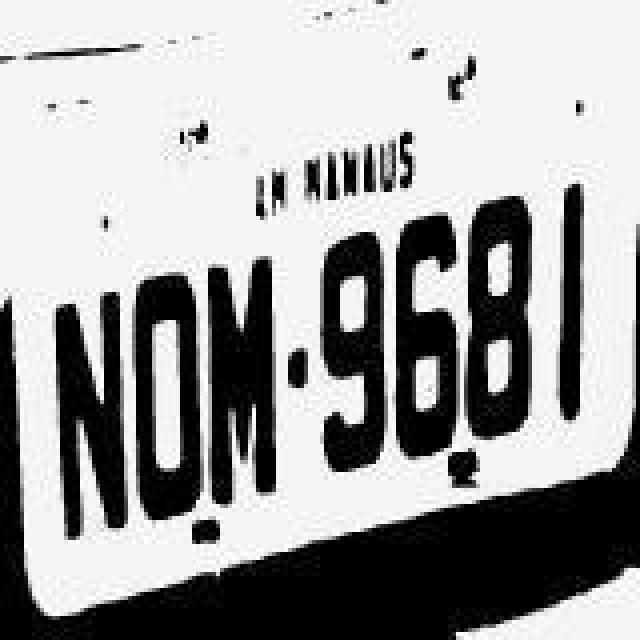1: (540, 148, 612, 436)
6: (382, 198, 466, 482)
8: (452, 182, 540, 482)
9: (312, 218, 392, 502)
M: (200, 248, 280, 544)
N: (36, 270, 124, 562)
O: (124, 260, 204, 556)
